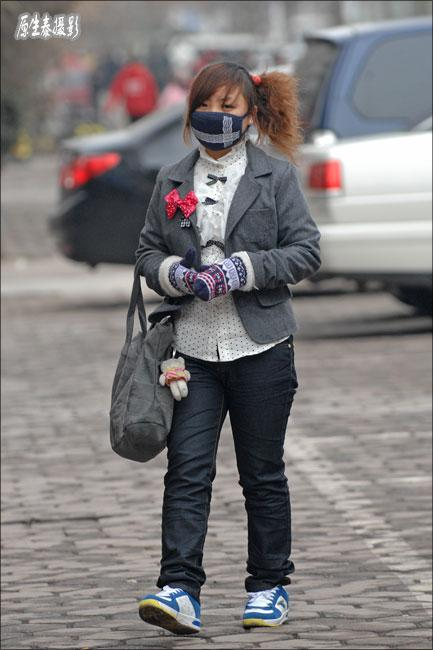OK: (187, 91, 248, 152)
